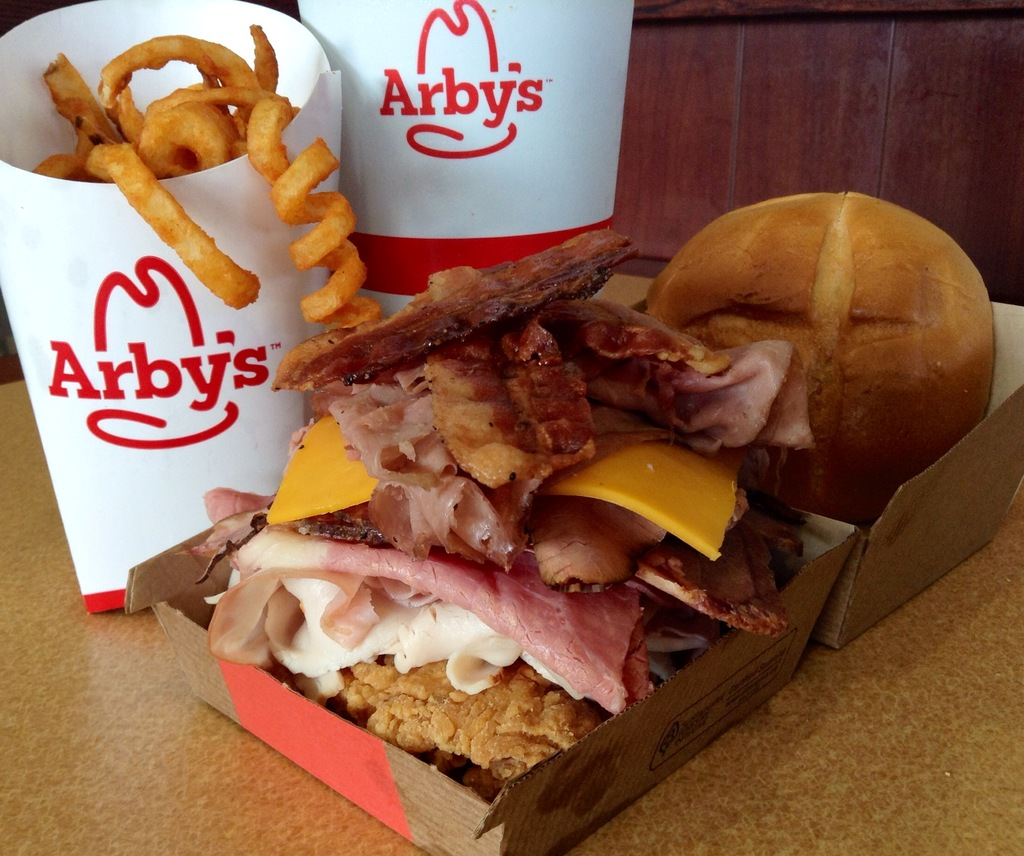French fries: (15, 16, 387, 336)
